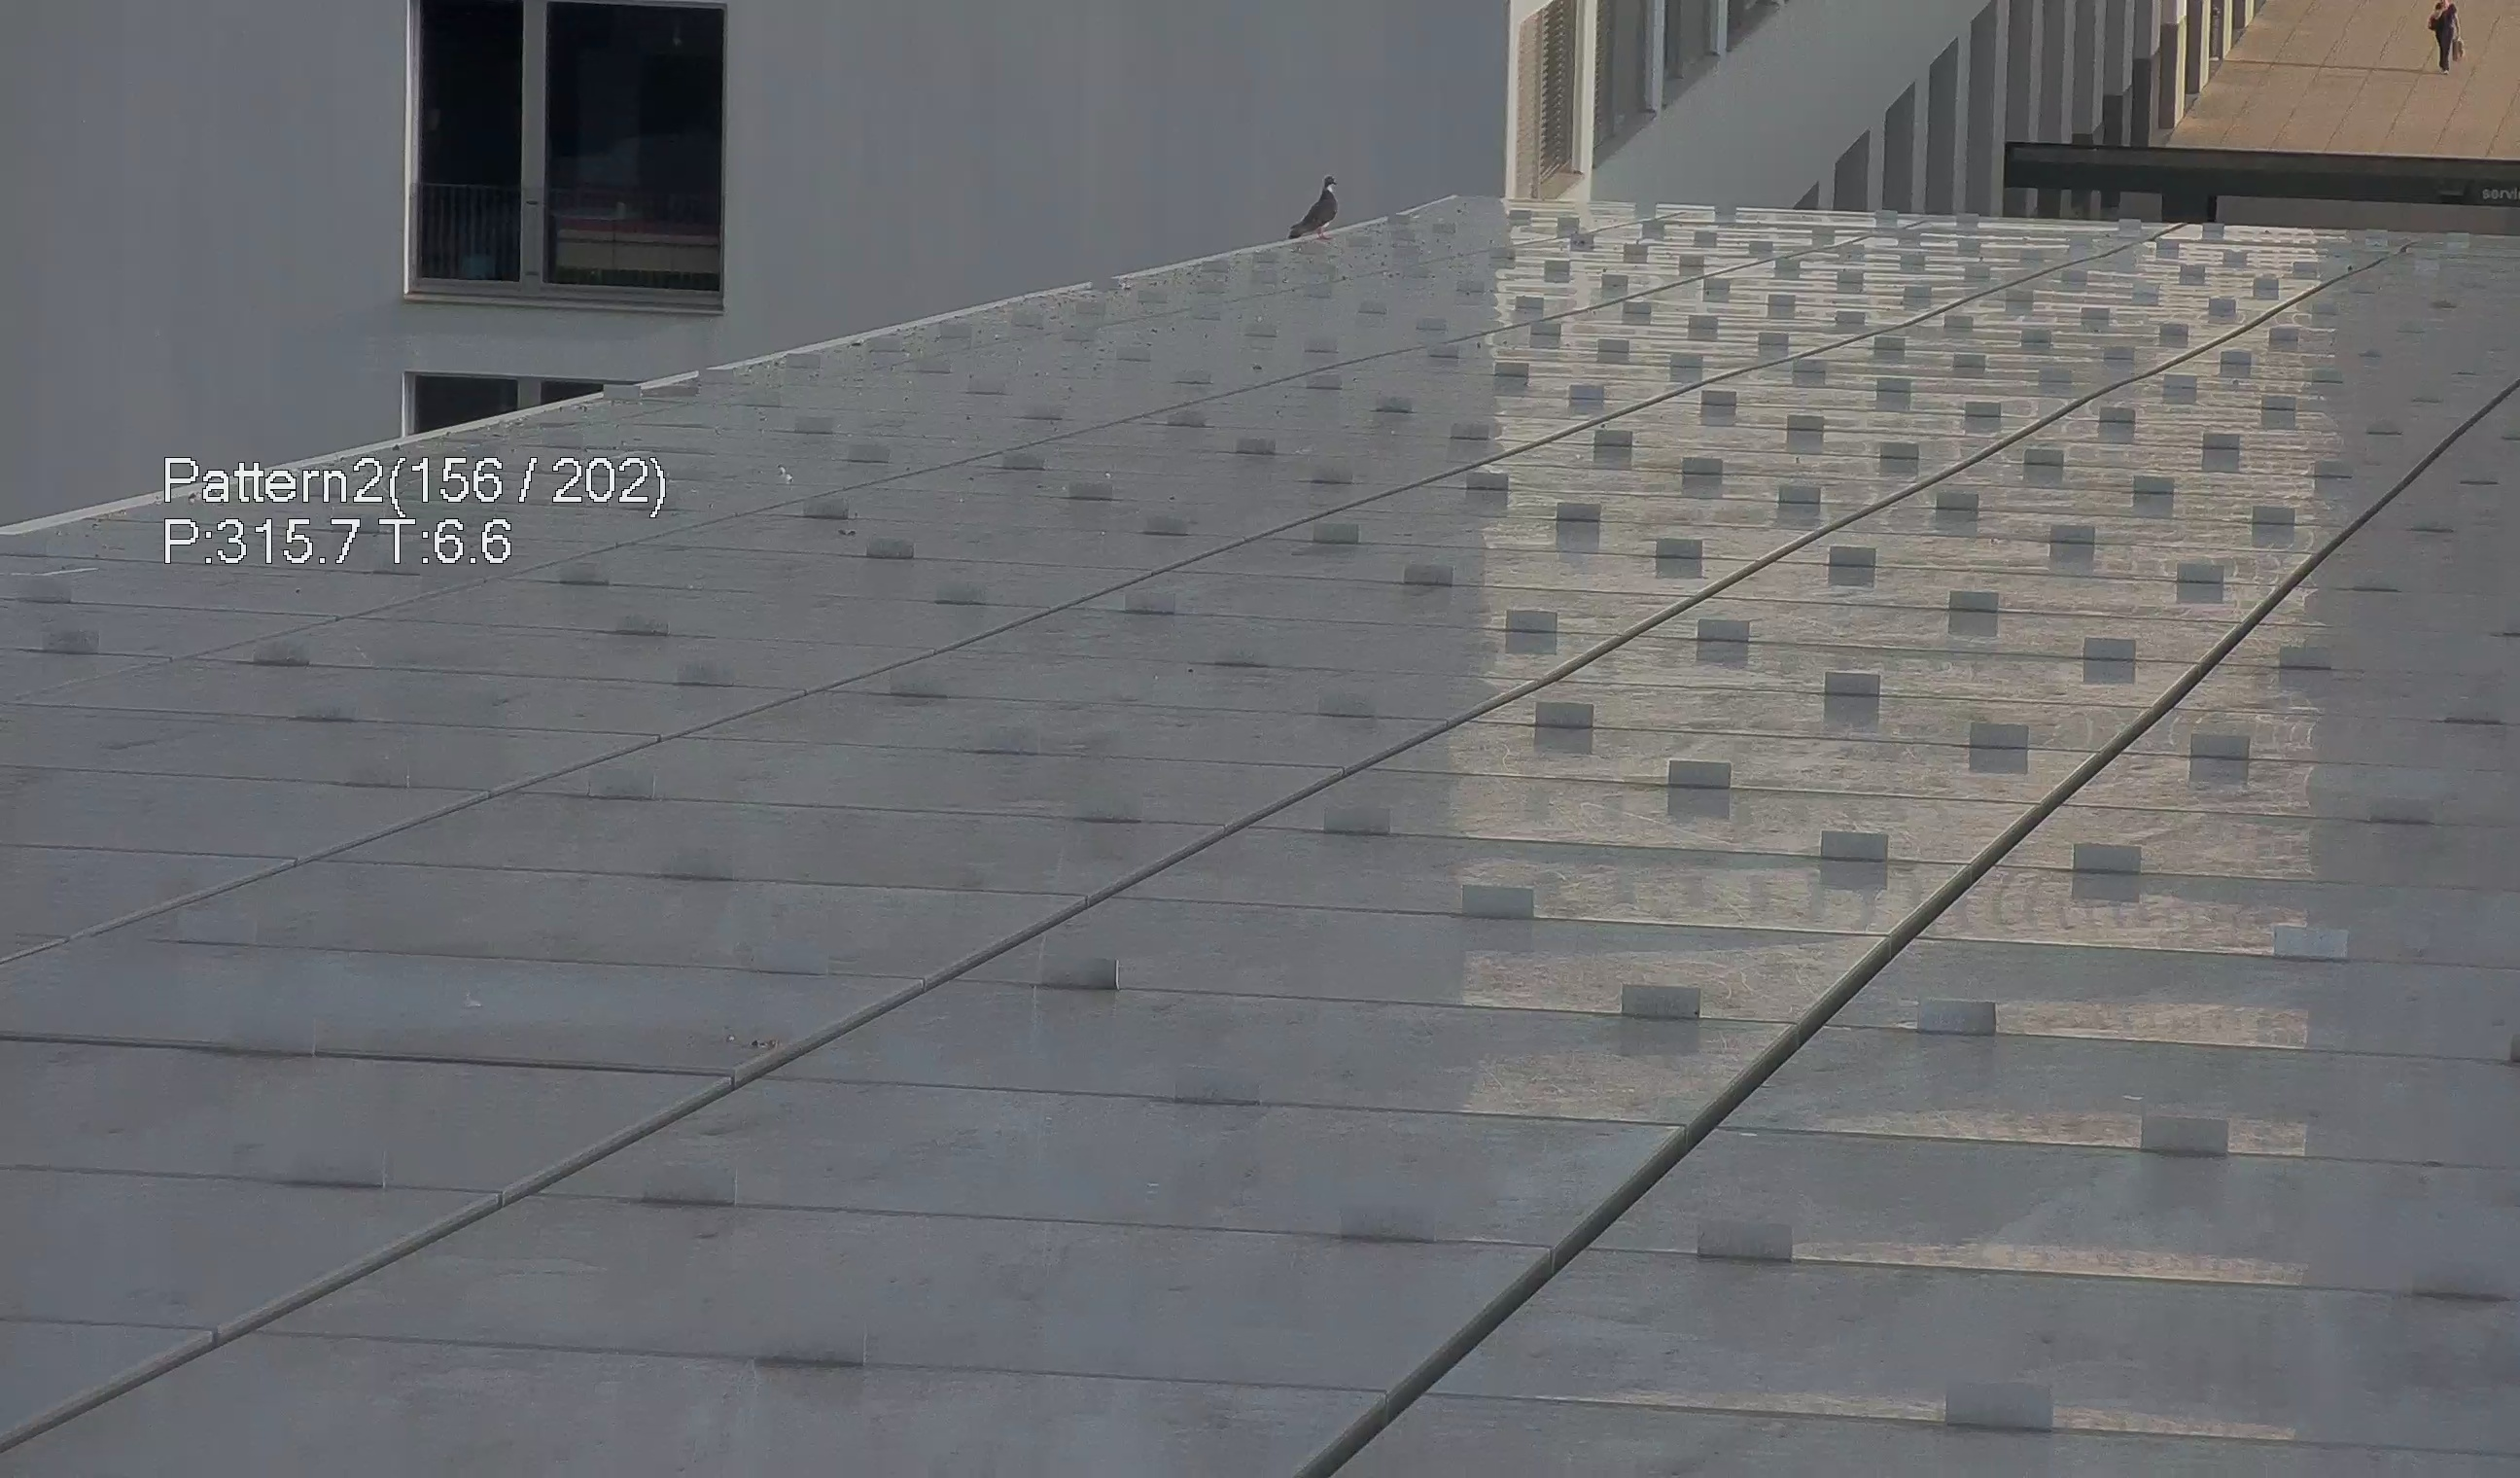Pigeon: (1280, 162, 1349, 248)
